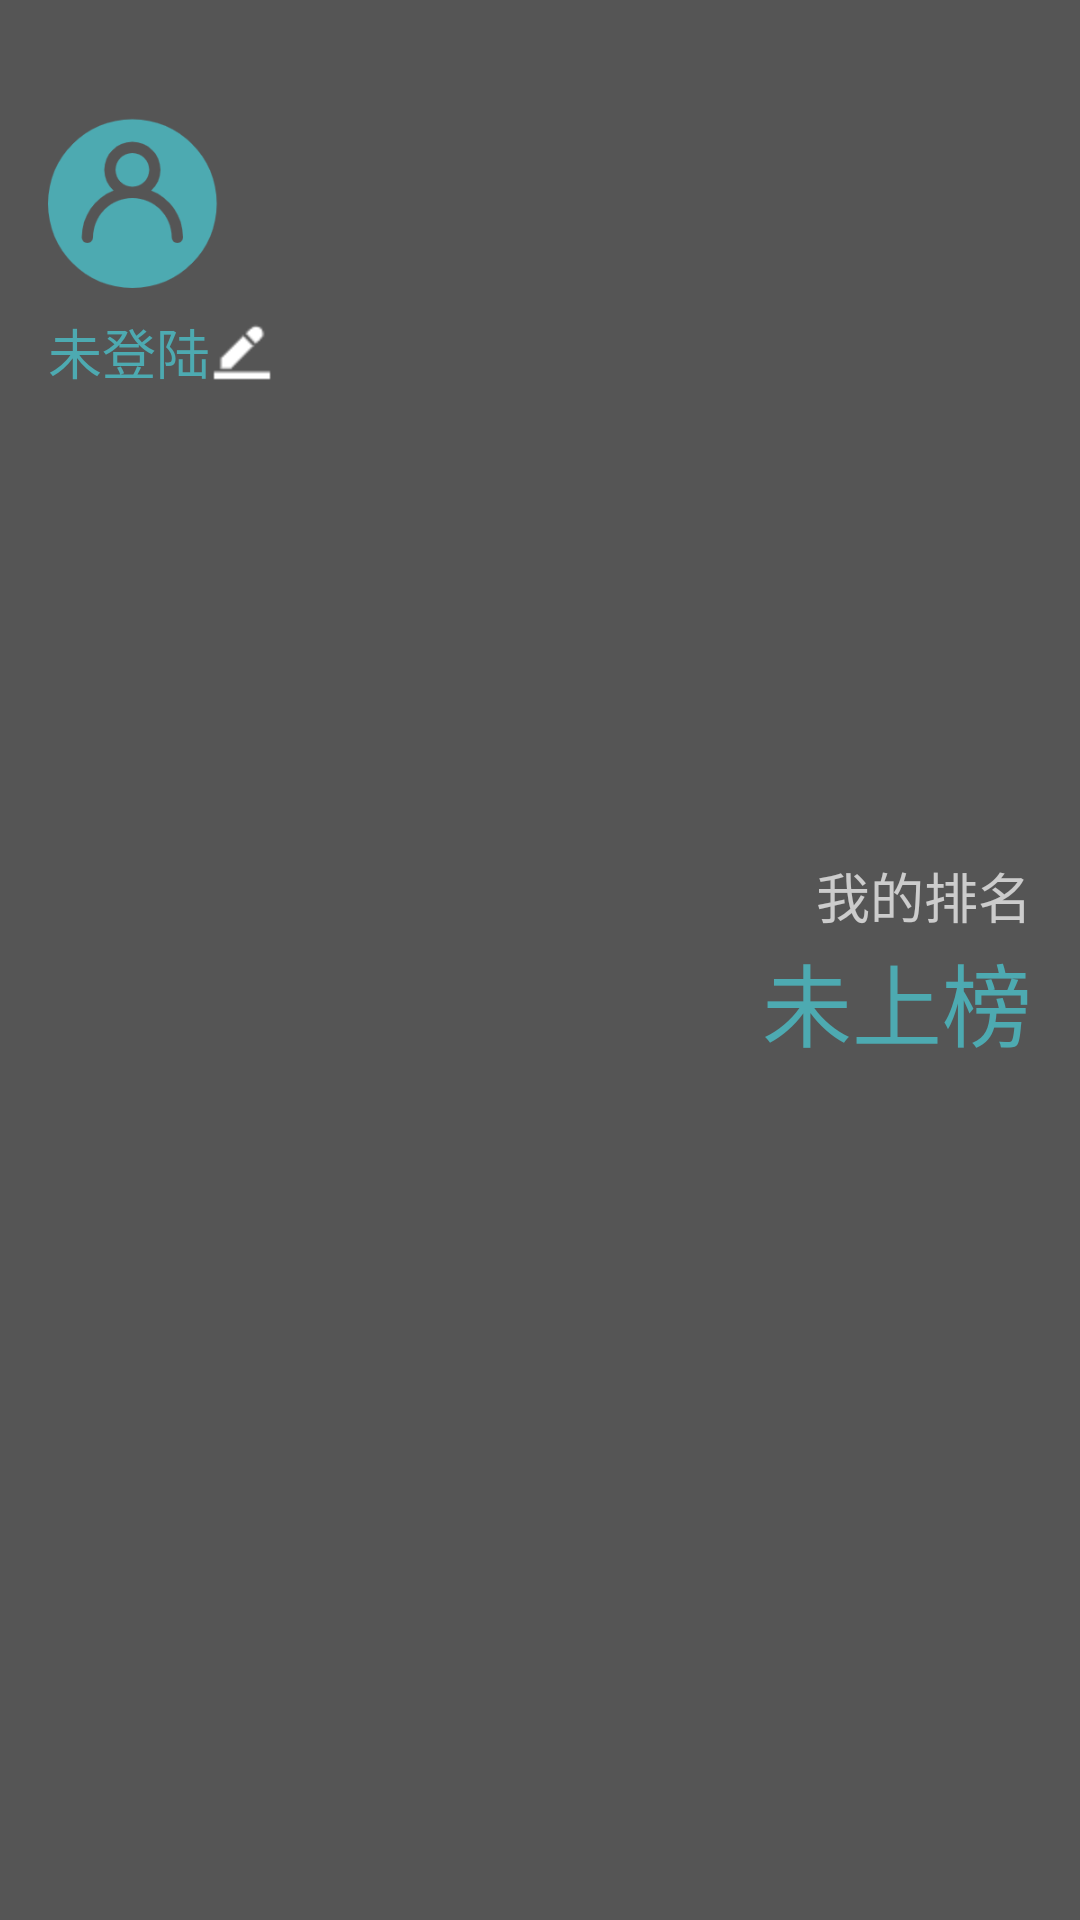

Icons on this 1080×1920 Android screen, each with the point to tap as (x,y):
user: (132,203)
